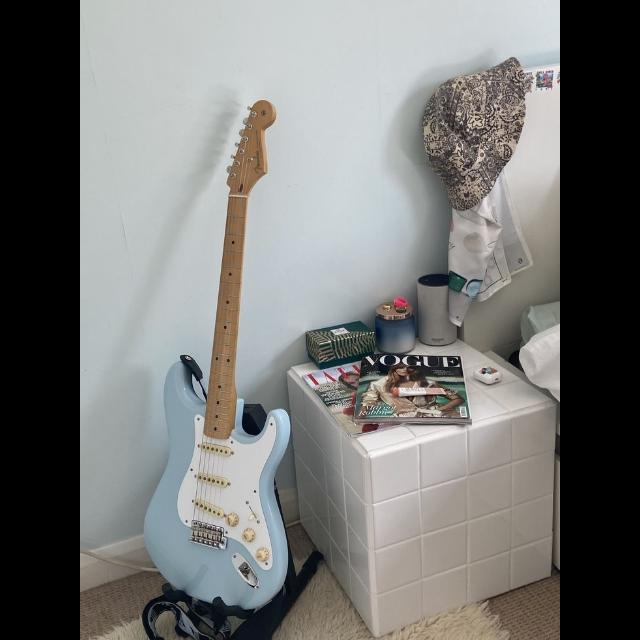Electric-Guitar: (104, 71, 344, 617)
